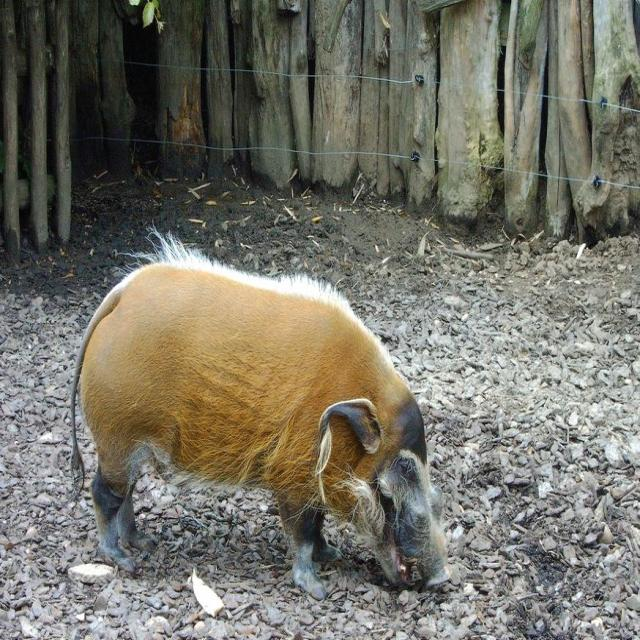pig: (72, 238, 449, 600)
